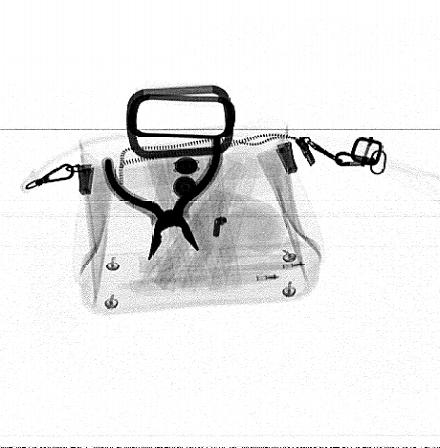Pliers: (99, 135, 224, 264)
